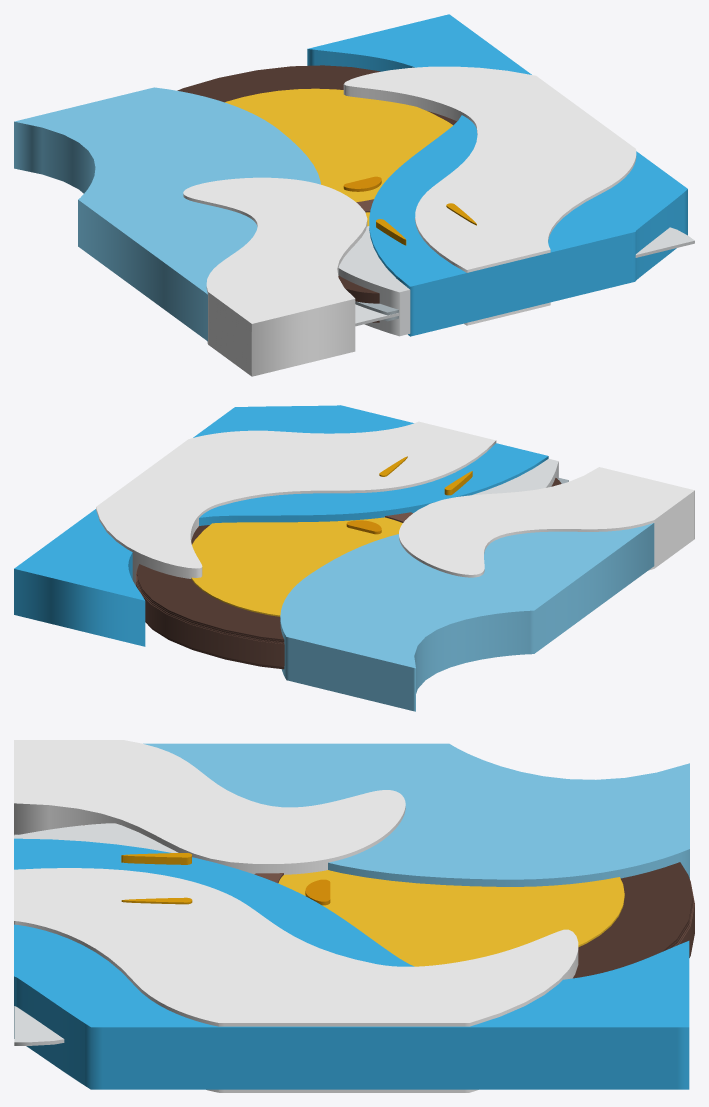
File: emoji_u1f9d6_200d_2640.glb
3 renders of one model, top to bottom at view 1: azimuth 30°, elevation 25°; view 2: azimuth 150°, elevation 25°; view 3: azimuth 270°, elevation 25°, orthographic. The views are drawn at different scales.
Parts seen in each view (by area): view 1: emoji_u1f9d6_200d_2640; view 2: emoji_u1f9d6_200d_2640; view 3: emoji_u1f9d6_200d_2640.
Boxes of the visible parts, box(x1,y1,x2,y2) form: emoji_u1f9d6_200d_2640: box(14, 14, 694, 376); emoji_u1f9d6_200d_2640: box(14, 405, 694, 711); emoji_u1f9d6_200d_2640: box(14, 740, 694, 1092).
Size of the model in its own units: 0.0333 by 0.0042 by 0.0336.
